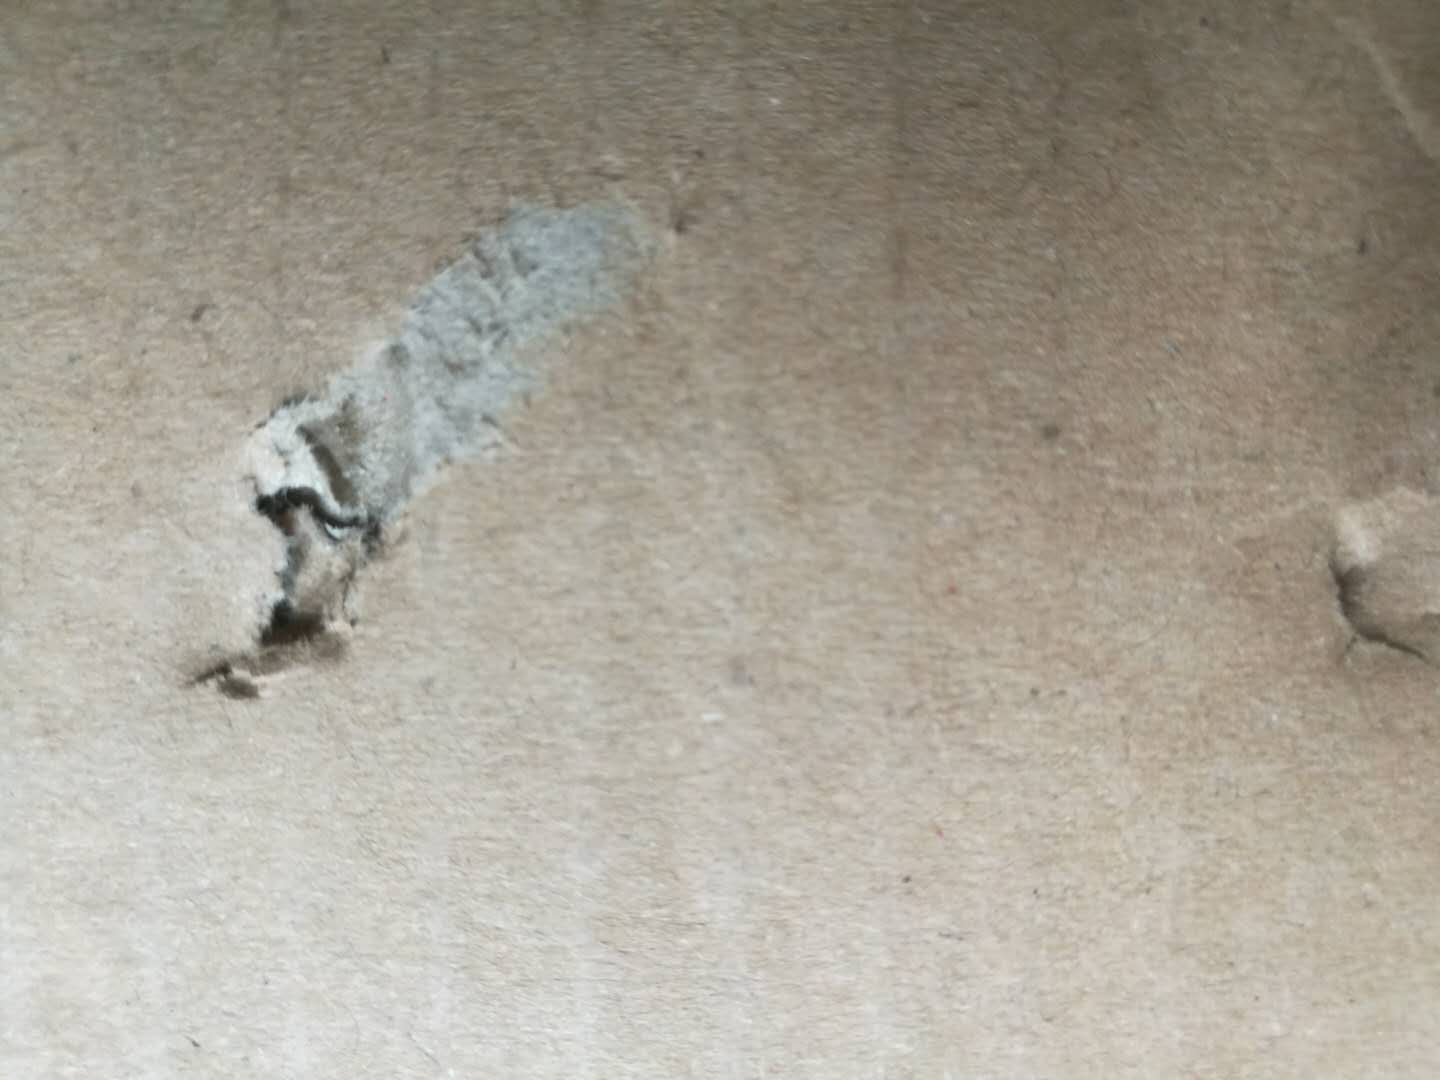defect: (147, 138, 711, 726), (1291, 447, 1440, 695), (1325, 3, 1440, 182)
